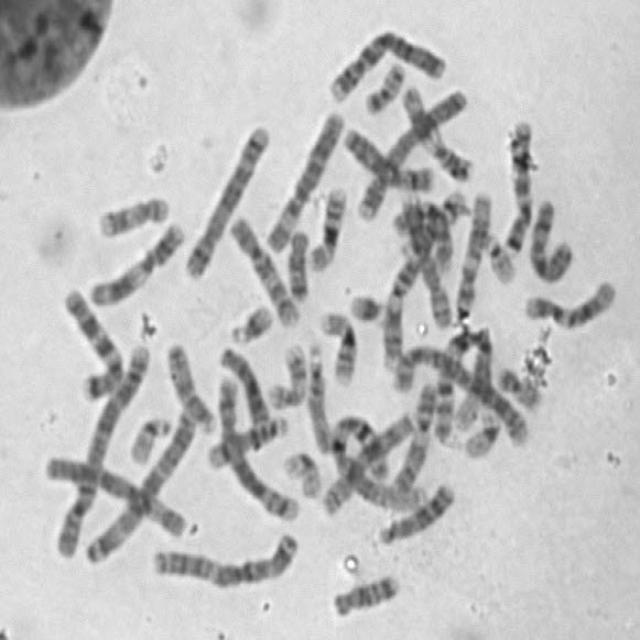A1: (327, 408, 421, 514), (434, 326, 494, 442)
A2: (50, 335, 153, 561), (388, 336, 535, 450)
A3: (80, 402, 200, 566), (149, 525, 302, 591)
B4: (352, 81, 471, 223), (324, 20, 449, 104)
B5: (180, 116, 272, 282), (213, 367, 303, 522)
C10: (225, 209, 302, 330), (391, 193, 455, 275)
C11: (84, 213, 188, 309), (397, 79, 477, 185)
C12: (449, 186, 494, 319), (519, 273, 619, 331)
C6: (39, 446, 192, 540), (260, 103, 347, 255)
C7: (58, 280, 129, 402), (498, 112, 536, 257)
C8: (324, 397, 424, 512), (392, 197, 456, 331)
C9: (378, 246, 433, 371), (386, 374, 438, 500)
D13: (374, 476, 457, 547), (214, 339, 271, 430)
D14: (200, 409, 290, 470), (397, 190, 458, 271)
D15: (162, 335, 218, 435), (303, 338, 334, 455)
E16: (304, 179, 349, 274), (315, 304, 360, 387)
E17: (92, 188, 172, 240), (262, 338, 310, 410)
E18: (327, 568, 402, 620), (282, 223, 313, 302)
F19: (279, 444, 324, 500), (458, 405, 502, 459)
F20: (360, 55, 409, 116), (492, 359, 543, 412)
G21: (225, 297, 275, 346), (345, 284, 388, 326)
G22: (125, 409, 174, 466), (479, 226, 519, 286)
X: (340, 119, 440, 194), (524, 192, 576, 284)
